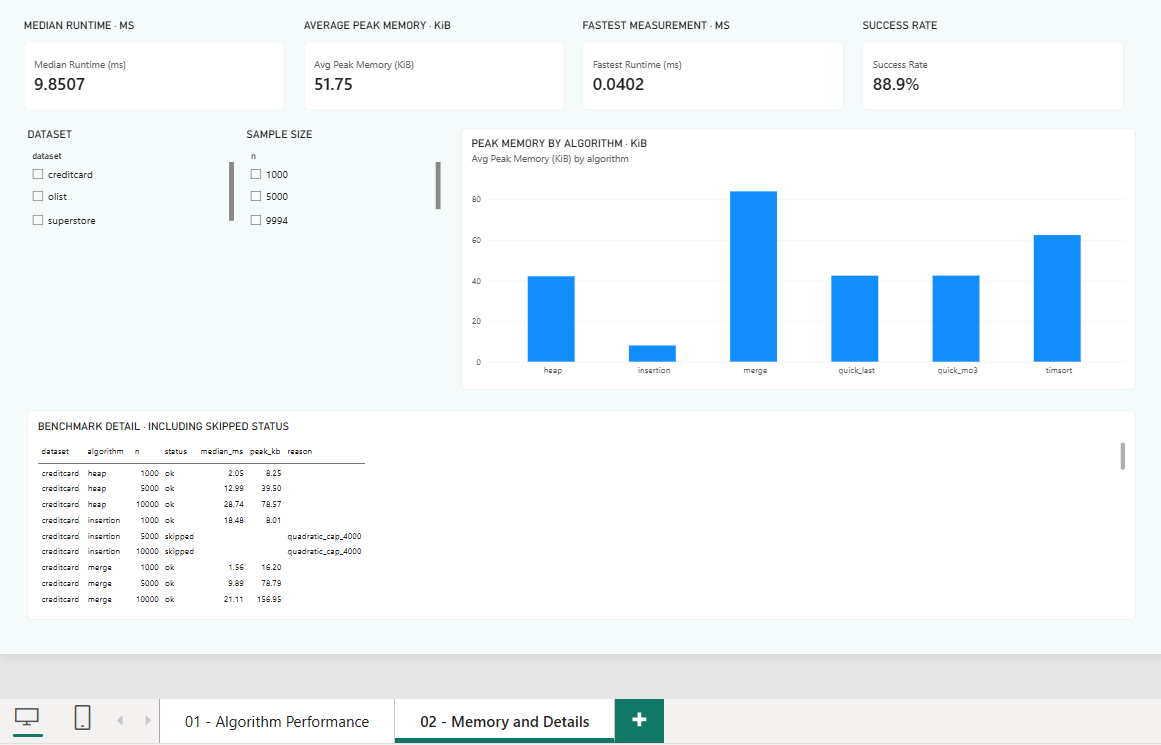

This screenshot's page, from the dashboard's own definition file:
{"tool":"powerbi","page":{"name":"02 - Memory and Details","canvas":[1920,1080],"ordinal":1},"visuals":[{"type":"cardVisual","title":"MEDIAN RUNTIME · MS","fields":{"Data":["SortingBenchmark.Median Runtime (ms)"]},"box":[40,35,430,150],"z":1000},{"type":"cardVisual","title":"AVERAGE PEAK MEMORY · KiB","fields":{"Data":["SortingBenchmark.Avg Peak Memory (KiB)"]},"box":[500,35,430,150],"z":1001},{"type":"cardVisual","title":"FASTEST MEASUREMENT · MS","fields":{"Data":["SortingBenchmark.Fastest Runtime (ms)"]},"box":[960,35,430,150],"z":1002},{"type":"cardVisual","title":"SUCCESS RATE","fields":{"Data":["SortingBenchmark.Success Rate"]},"box":[1420,35,430,150],"z":1003},{"type":"slicer","title":"DATASET","fields":{"Values":["SortingBenchmark.dataset"]},"box":[45,215,340,165],"z":1004},{"type":"slicer","title":"SAMPLE SIZE","fields":{"Values":["SortingBenchmark.n"]},"box":[405,215,320,165],"z":1005},{"type":"clusteredColumnChart","title":"PEAK MEMORY BY ALGORITHM · KiB","fields":{"Category":["SortingBenchmark.algorithm"],"Y":["SortingBenchmark.Avg Peak Memory (KiB)"]},"box":[760,215,1110,430],"z":1006},{"type":"tableEx","title":"BENCHMARK DETAIL · INCLUDING SKIPPED STATUS","fields":{"Values":["SortingBenchmark.dataset","SortingBenchmark.algorithm","SortingBenchmark.n","SortingBenchmark.status","SortingBenchmark.median_ms","SortingBenchmark.peak_kb","SortingBenchmark.reason"]},"box":[45,680,1825,345],"z":1007}]}

Visuals, with their boxes on the page's 1920x1080 design canvas (x1, y1, x2, y2). These are canvas units, not pixel positions in the 1161x745 screenshot, which may show the page scaled, cropped or inside an application window:
"MEDIAN RUNTIME · MS" cardVisual: (40, 35, 470, 185)
"AVERAGE PEAK MEMORY · KiB" cardVisual: (500, 35, 930, 185)
"FASTEST MEASUREMENT · MS" cardVisual: (960, 35, 1390, 185)
"SUCCESS RATE" cardVisual: (1420, 35, 1850, 185)
"DATASET" slicer: (45, 215, 385, 380)
"SAMPLE SIZE" slicer: (405, 215, 725, 380)
"PEAK MEMORY BY ALGORITHM · KiB" clusteredColumnChart: (760, 215, 1870, 645)
"BENCHMARK DETAIL · INCLUDING SKIPPED STATUS" tableEx: (45, 680, 1870, 1025)
